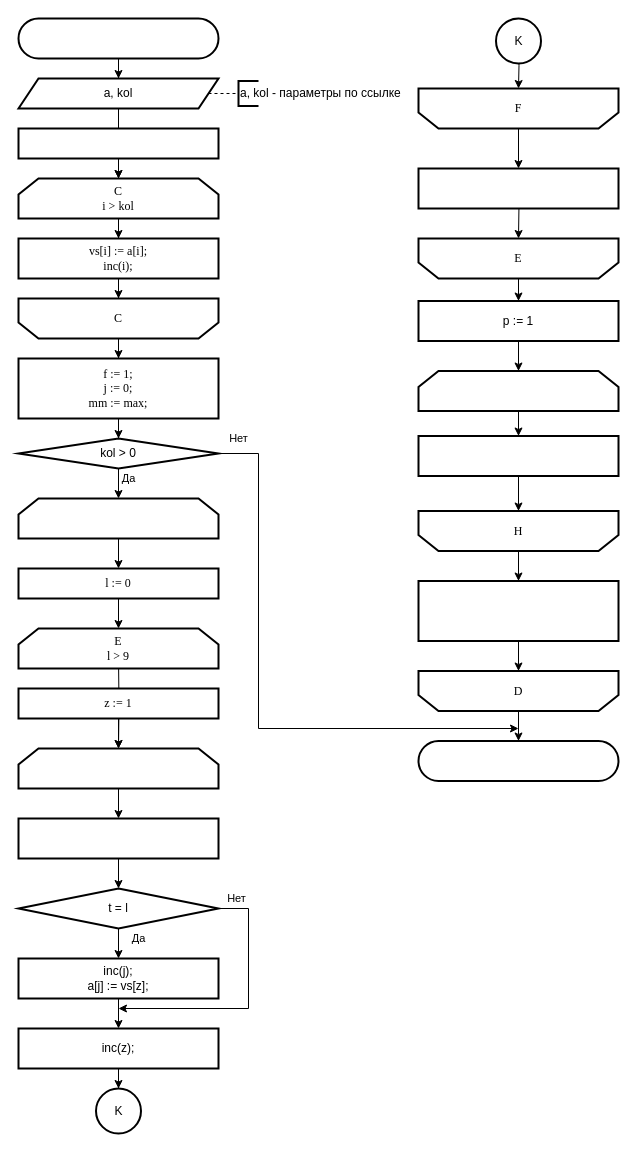
Image size: 636x1151. Some labels were removed from this diagram. Each missing label, with the centre of its shape:
"D mm = 0" belongs at (118,518).
"F z > kol" belongs at (118,768).
"H p > kol" belongs at (518,391).
"i := 1" belongs at (118,143).
"inc(l);" belongs at (518,188).
"j := 0; f := f * 10; mm := mm div 10;" belongs at (518,611).
"t := vs[z] div f mod 10;" belongs at (118,838).
"vs[p] := a[p]; inc(p);" belongs at (518,455).
"Конец sort" belongs at (518,761).
"Начало sort" belongs at (118,38).
